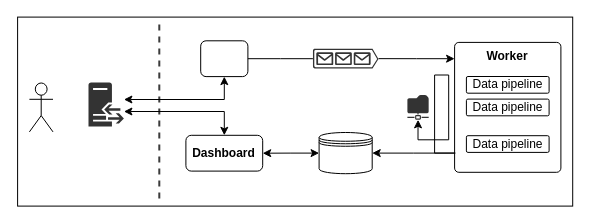
Some shapes in this 591 by 224 pixel diagram are drawn without their labels. The shapes that lost their labels are listed below. From the top down, each one's centre as x and y in pixels, then its label:
At pixel 224 58: "API".
At pixel 40 107: "Actor".
At pixel 345 153: "NoSQL".
